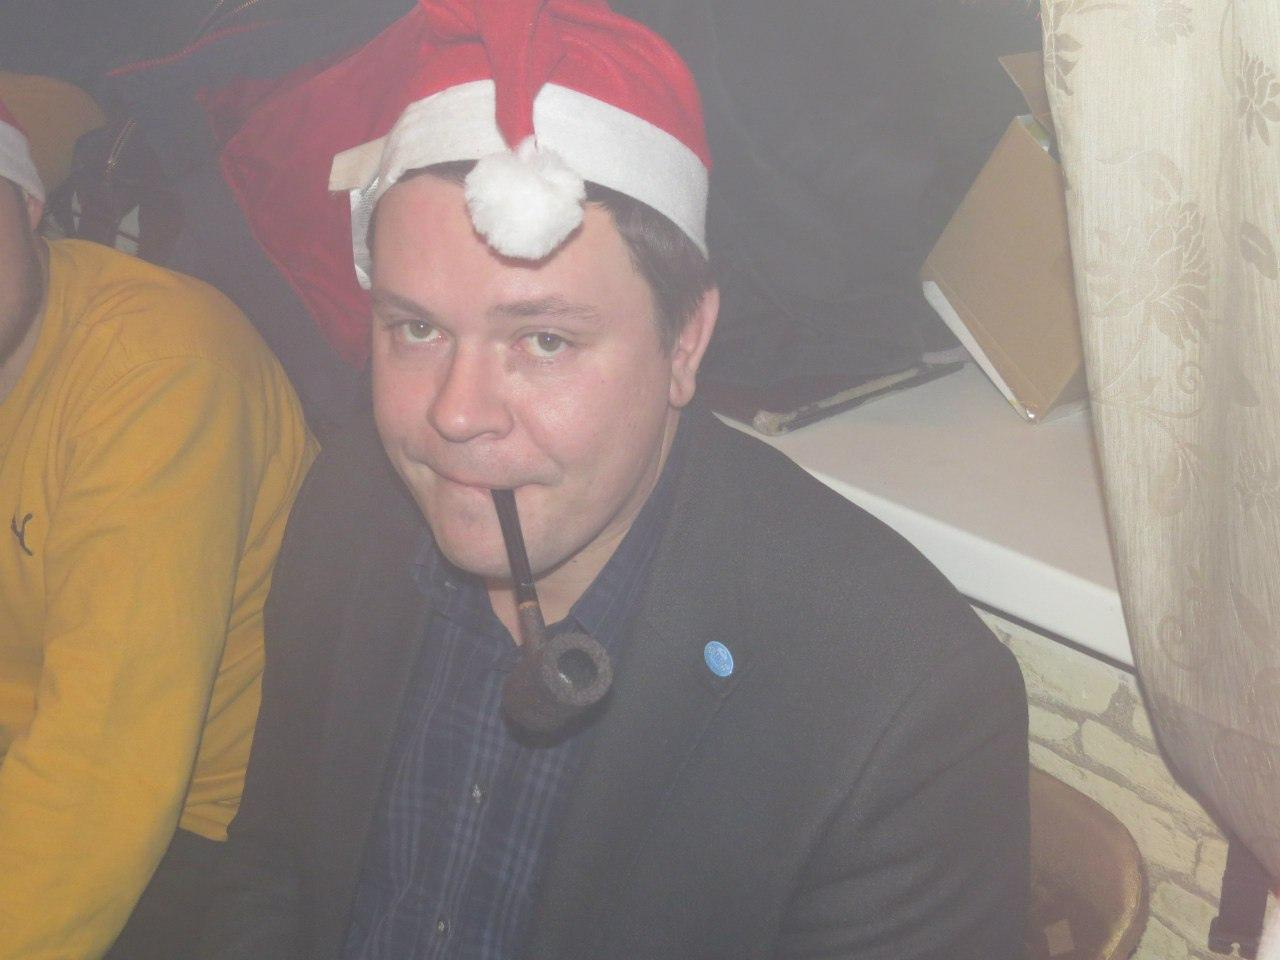trubka: (489, 487, 613, 737)
